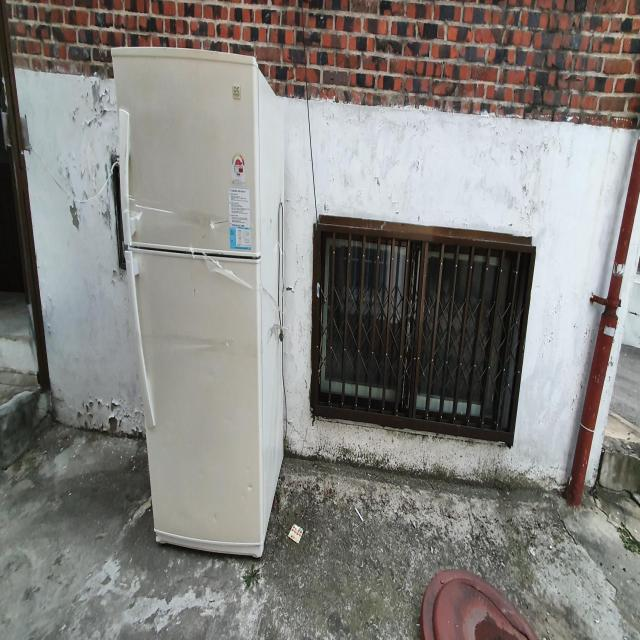refrigerator: (107, 39, 291, 567)
